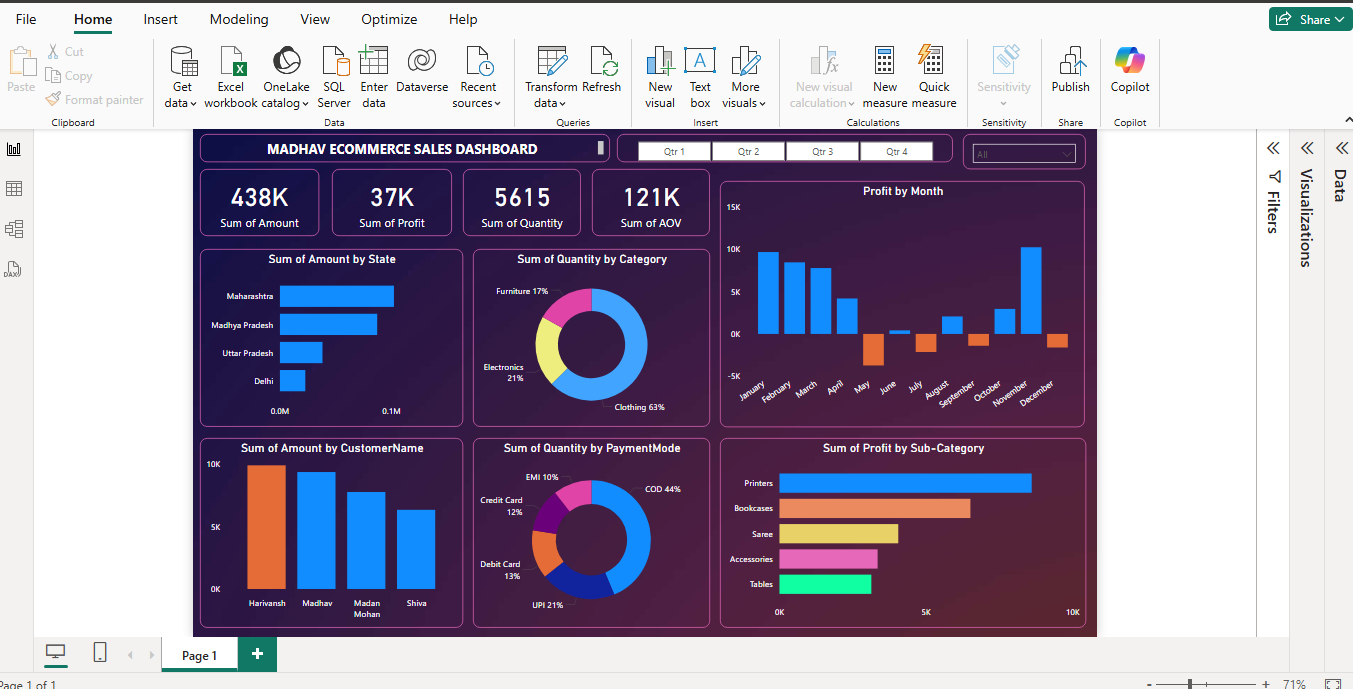

The dashboard page shown, as its layout file describes it:
{"tool":"powerbi","page":{"name":"Page 1","canvas":[1280,720],"ordinal":0},"visuals":[{"type":"textbox","box":[9.9,7.1,581.1,39.7],"z":0},{"type":"columnChart","title":" Profit by Month","fields":{"Y":["Details.Profit"],"Category":["Orders.Order Date.Variation.Date Hierarchy.Month"]},"box":[746.9,73.7,517.3,348.7],"z":1000},{"type":"barChart","fields":{"Category":["Details.Sub-Category"],"Y":["Details.Profit"]},"box":[746.9,438,518.7,269.3],"z":2000},{"type":"donutChart","fields":{"Category":["Details.Category"],"Y":["Details.Quantity"]},"box":[396.4,169.7,336,252],"z":3000},{"type":"donutChart","fields":{"Y":["Details.Quantity"],"Category":["Details.PaymentMode"]},"box":[396.9,438,335.9,269.3],"z":4000},{"type":"card","fields":{"Values":["Details.Amount"]},"box":[9.9,56.7,168.7,95],"z":5000},{"type":"card","fields":{"Values":["Details.Quantity"]},"box":[382.7,56.7,167.2,95],"z":6000},{"type":"card","fields":{"Values":["Details.Profit"]},"box":[197,56.7,170.1,95],"z":7000},{"type":"card","fields":{"Values":["Details.AOV"]},"box":[565.5,56.7,167.2,95],"z":8000},{"type":"barChart","fields":{"Category":["Orders.State"],"Y":["Details.Amount"]},"box":[10.1,169.7,372.9,252],"z":9000},{"type":"columnChart","fields":{"Category":["Orders.CustomerName"],"Y":["Details.Amount"]},"box":[10,438,373,269],"z":10000},{"type":"slicer","fields":{"Values":["Orders.Order Date.Variation.Date Hierarchy.Quarter"]},"box":[600.9,7.1,476.2,39.7],"z":11000},{"type":"slicer","fields":{"Values":["Orders.State"]},"box":[1091.3,7.1,174.3,49.6],"z":12000}]}

Visuals, with their boxes on the page's 1280x720 design canvas (x1, y1, x2, y2). These are canvas units, not pixel positions in the 1353x689 screenshot, which may show the page scaled, cropped or inside an application window:
textbox: <region>10, 7, 591, 47</region>
" Profit by Month" columnChart: <region>747, 74, 1264, 422</region>
barChart - Details.Sub-Category x Details.Profit: <region>747, 438, 1266, 707</region>
donutChart - Details.Category x Details.Quantity: <region>396, 170, 732, 422</region>
donutChart - Details.Quantity x Details.PaymentMode: <region>397, 438, 733, 707</region>
card - Details.Amount: <region>10, 57, 179, 152</region>
card - Details.Quantity: <region>383, 57, 550, 152</region>
card - Details.Profit: <region>197, 57, 367, 152</region>
card - Details.AOV: <region>566, 57, 733, 152</region>
barChart - Orders.State x Details.Amount: <region>10, 170, 383, 422</region>
columnChart - Orders.CustomerName x Details.Amount: <region>10, 438, 383, 707</region>
slicer - Orders.Order Date.Variation.Date Hierarchy.Quarter: <region>601, 7, 1077, 47</region>
slicer - Orders.State: <region>1091, 7, 1266, 57</region>
